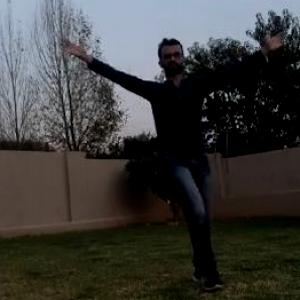takeoff: (64, 34, 286, 283)
